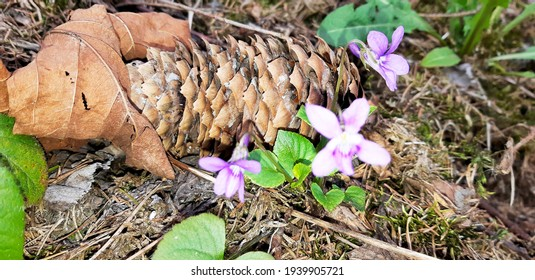Pc: (120, 33, 362, 155)
